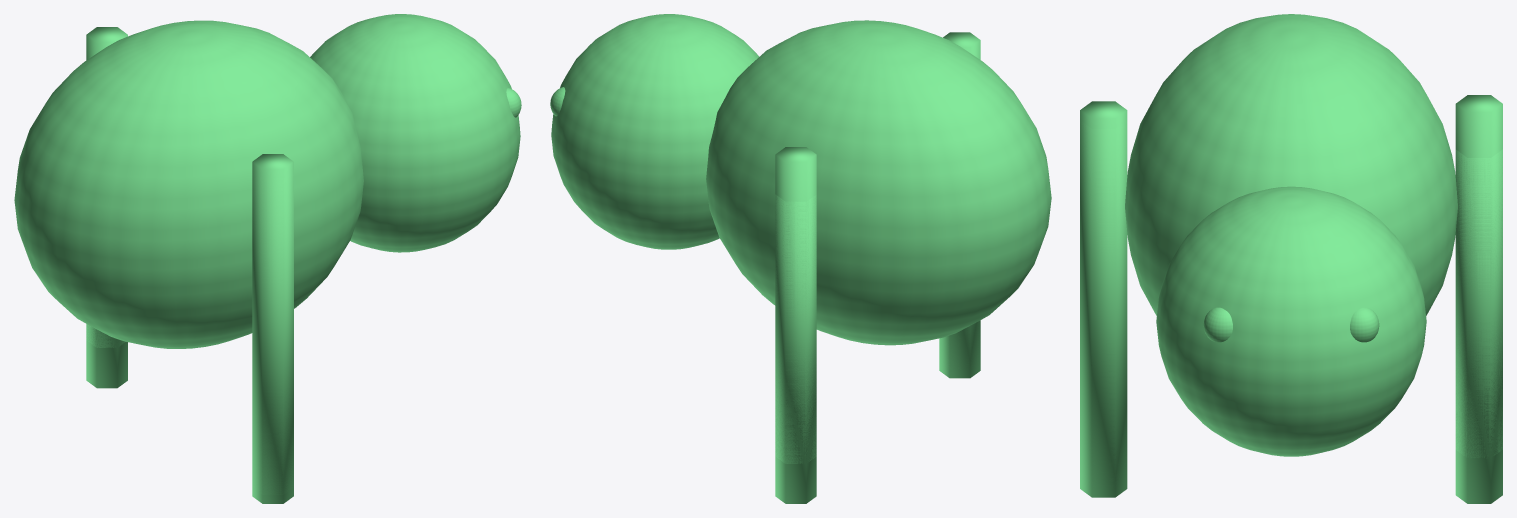
Rendered from adhesion_bug_00.glb.
The picture shows the model from 3 angles, left to right: view 1: azimuth 30°, elevation 25°; view 2: azimuth 150°, elevation 25°; view 3: azimuth 270°, elevation 25°; orthographic projection. The views are drawn at different scales.
Parts seen in each view (by area): view 1: adhesion_bug_00; view 2: adhesion_bug_00; view 3: adhesion_bug_00.
Part boxes in pixels (x1=…): adhesion_bug_00: x1=14, y1=14, x2=521, y2=503; adhesion_bug_00: x1=550, y1=14, x2=1051, y2=503; adhesion_bug_00: x1=1080, y1=14, x2=1502, y2=503.
Size of the model in its own units: 2.63 by 2.16 by 1.8.
